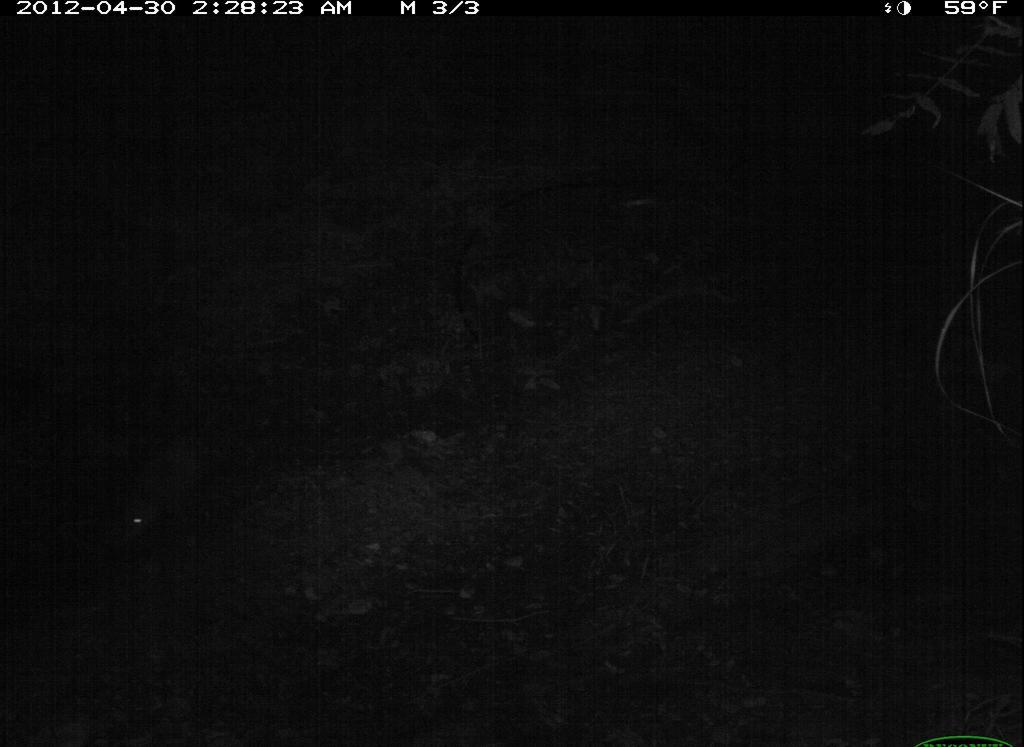opossum: (86, 399, 277, 580)
